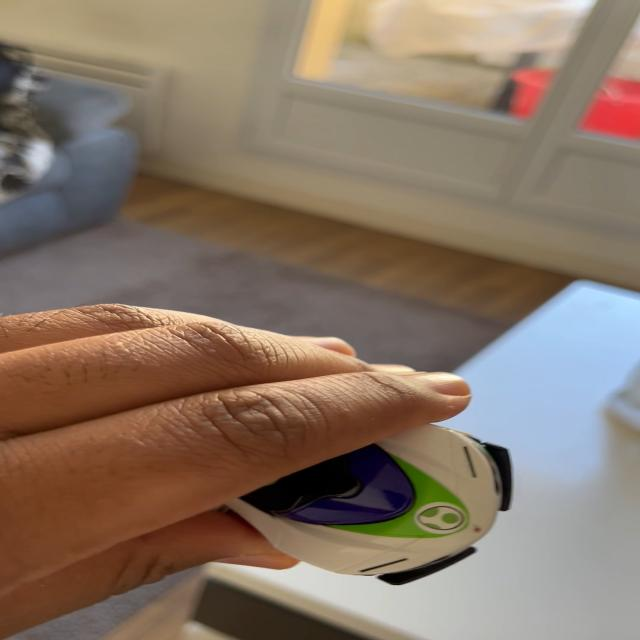yoshi: (197, 405, 528, 605)
